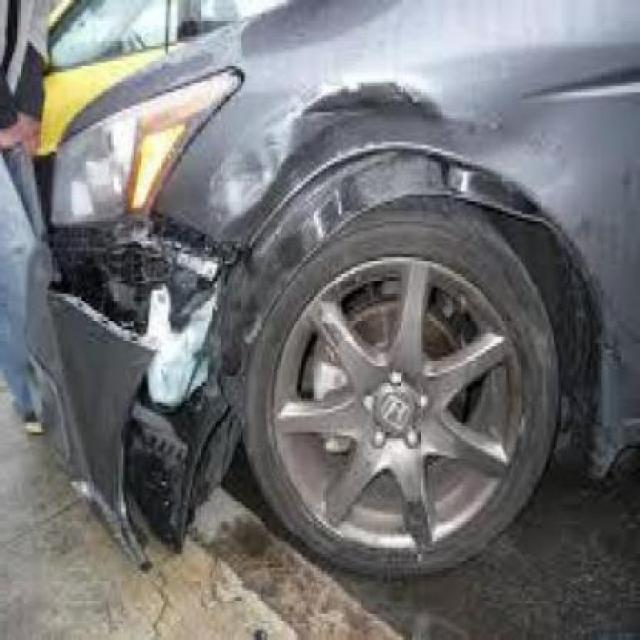damage: (23, 76, 550, 551)
